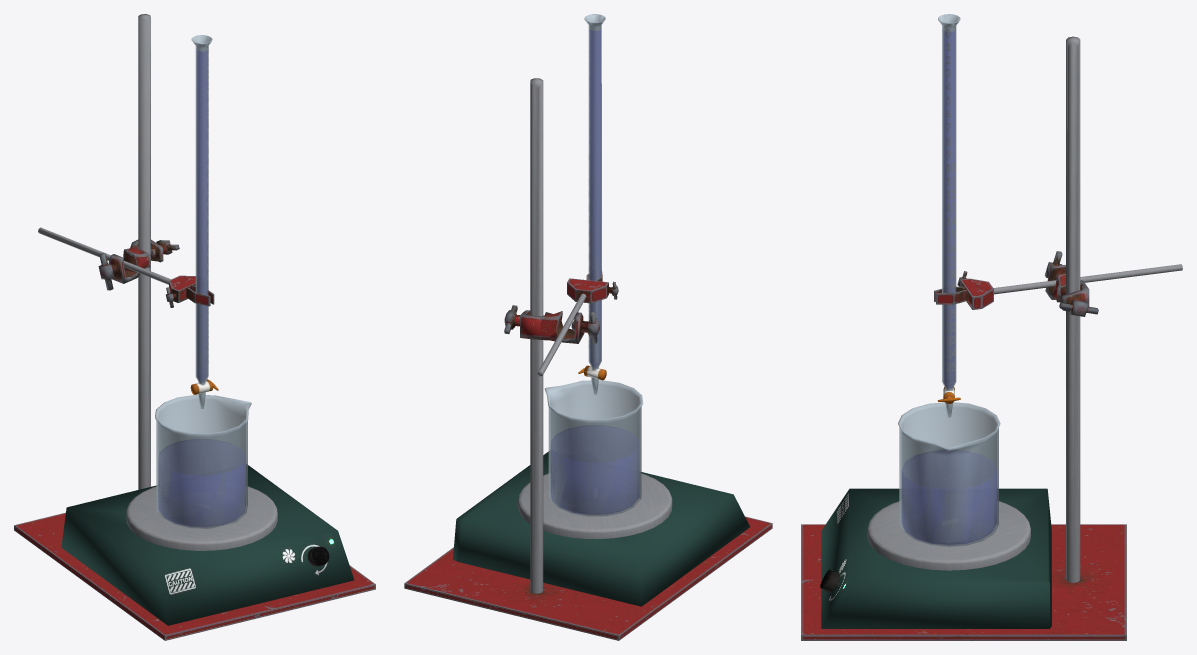
Rendered from glb-lab.glb.
3 views of the same model, side by side, from view 1: azimuth 30°, elevation 25°; view 2: azimuth 150°, elevation 25°; view 3: azimuth 270°, elevation 25° (orthographic). The views are drawn at different scales.
Visible parts, largest first — view 1: Agitateur_magnetique.001, Distillation_support_gauche.002, Becher_low.001, Becher_liquid_low.001, Burette_25.001, Burette_25_liquide.001; view 2: Agitateur_magnetique.001, Distillation_support_gauche.002, Becher_low.001, Becher_liquid_low.001, Burette_25.001, Burette_25_liquide.001; view 3: Agitateur_magnetique.001, Distillation_support_gauche.002, Becher_low.001, Becher_liquid_low.001, Burette_25.001, Burette_25_liquide.001.
Boxes of the visible parts, left/top/right/bottom form: Agitateur_magnetique.001: left=61, top=464, right=354, bottom=625; Distillation_support_gauche.002: left=14, top=14, right=375, bottom=640; Becher_low.001: left=155, top=394, right=251, bottom=528; Becher_liquid_low.001: left=158, top=439, right=245, bottom=526; Burette_25.001: left=190, top=35, right=218, bottom=408; Burette_25_liquide.001: left=197, top=50, right=207, bottom=382; Agitateur_magnetique.001: left=453, top=451, right=749, bottom=606; Distillation_support_gauche.002: left=404, top=78, right=772, bottom=640; Becher_low.001: left=544, top=380, right=643, bottom=516; Becher_liquid_low.001: left=551, top=425, right=639, bottom=514; Burette_25.001: left=578, top=14, right=606, bottom=394; Burette_25_liquide.001: left=590, top=29, right=600, bottom=367; Agitateur_magnetique.001: left=820, top=488, right=1051, bottom=628; Distillation_support_gauche.002: left=801, top=36, right=1182, bottom=640; Becher_low.001: left=898, top=402, right=1000, bottom=546; Becher_liquid_low.001: left=902, top=450, right=996, bottom=544; Burette_25.001: left=937, top=14, right=960, bottom=417; Burette_25_liquide.001: left=943, top=30, right=954, bottom=388.
Bounding box in the file's own units: 0.2993 × 0.7134 × 0.4351.
Materials: 2 (2 with a texture image).
